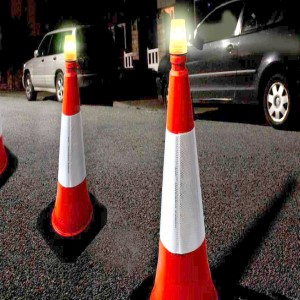traffic cone: (128, 54, 243, 300), (36, 61, 108, 264)
